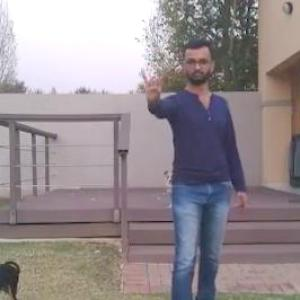takeoff-hand: (132, 60, 167, 104)
